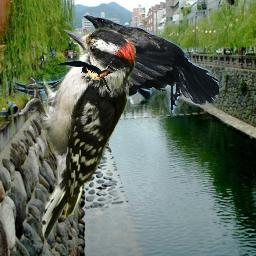Crow: (9, 13, 219, 115)
Swallow: (56, 57, 132, 97)
Woodpecker: (19, 24, 136, 240)
